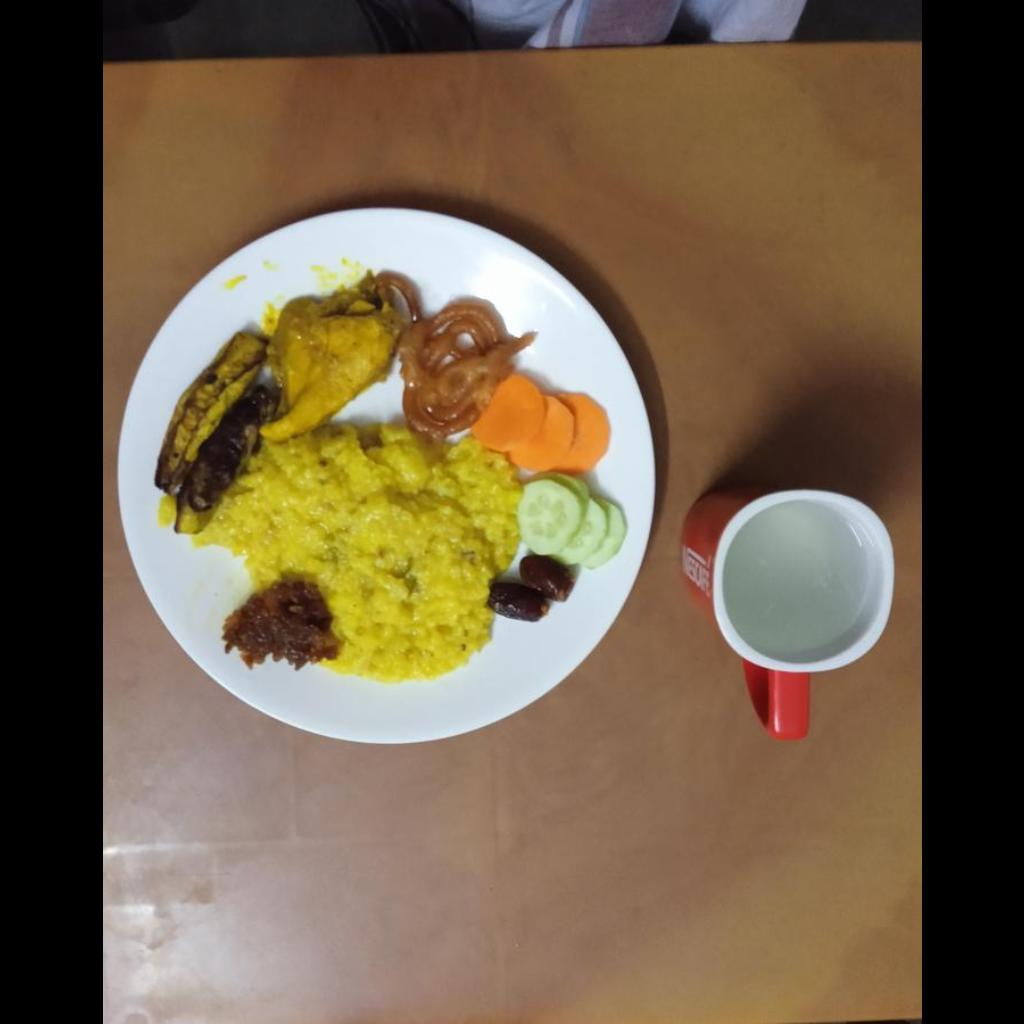achar: (223, 573, 338, 669)
carrot: (473, 381, 613, 471)
chicken: (261, 276, 401, 443)
cucumber: (517, 474, 628, 568)
dates: (485, 554, 572, 621)
khichuri: (191, 423, 522, 682)
potol: (154, 330, 278, 529)
